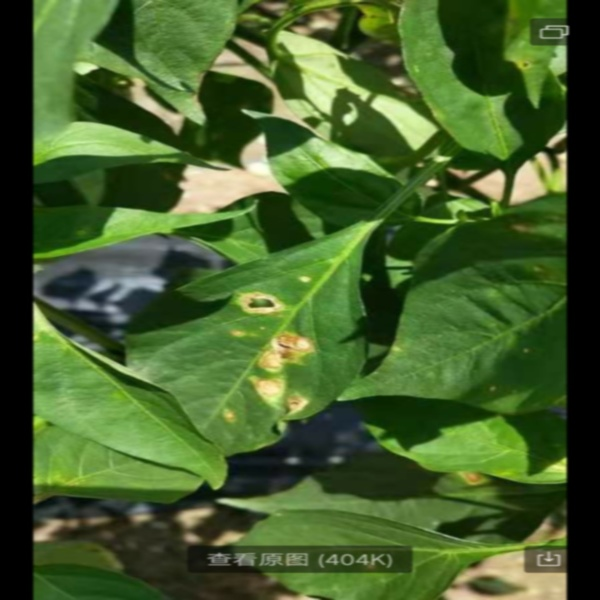Anthrax: (219, 282, 319, 422)
